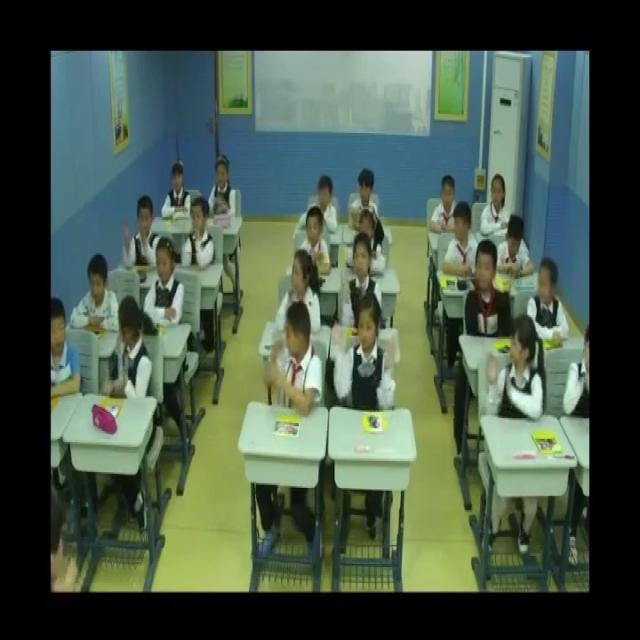distracted: (267, 302, 326, 424), (486, 316, 542, 423), (115, 297, 158, 407), (526, 255, 571, 348), (279, 249, 324, 336)
focused: (334, 298, 402, 418), (341, 238, 388, 338), (68, 251, 120, 341), (462, 245, 511, 340), (143, 239, 186, 327), (49, 300, 86, 402), (122, 195, 164, 272), (302, 206, 340, 281), (480, 169, 516, 248), (496, 216, 534, 279), (185, 200, 217, 272), (432, 177, 465, 243), (162, 158, 194, 225), (351, 169, 386, 229), (208, 156, 239, 222), (309, 174, 338, 238)
